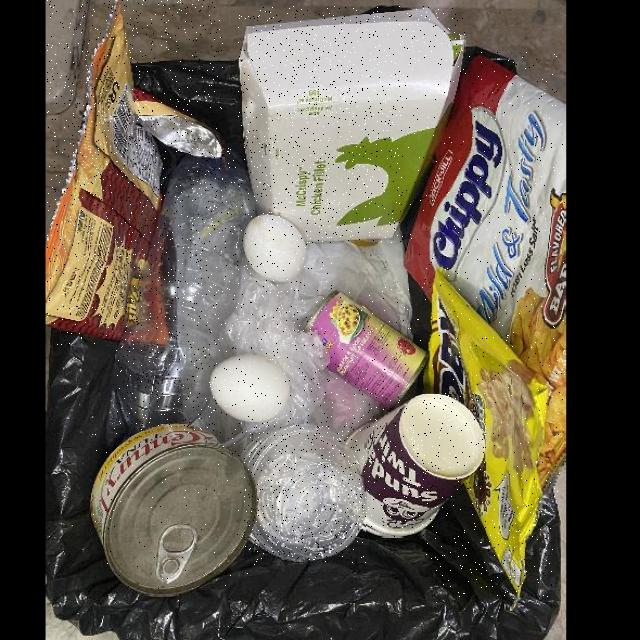biowaste: (211, 358, 293, 420), (243, 213, 307, 285)
metal: (90, 421, 258, 595), (307, 288, 432, 410)
paper: (239, 6, 465, 243), (352, 395, 486, 537)
plastic: (112, 147, 258, 431), (218, 258, 332, 457), (244, 423, 366, 563)
wrapper: (404, 53, 565, 504), (48, 0, 223, 345), (426, 269, 553, 597)
